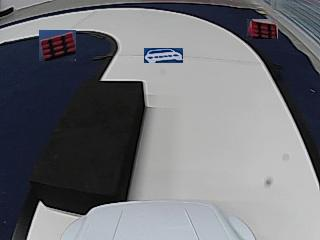block: (35, 78, 144, 206)
